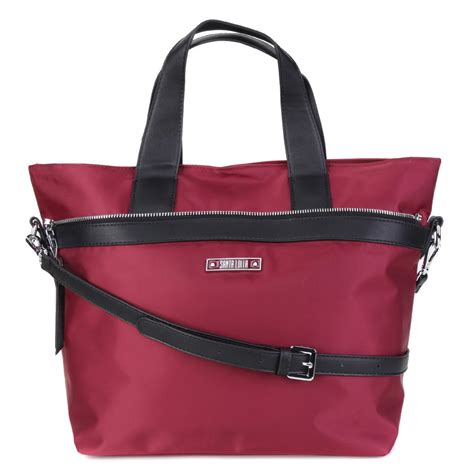nylon: (26, 157, 446, 456)
